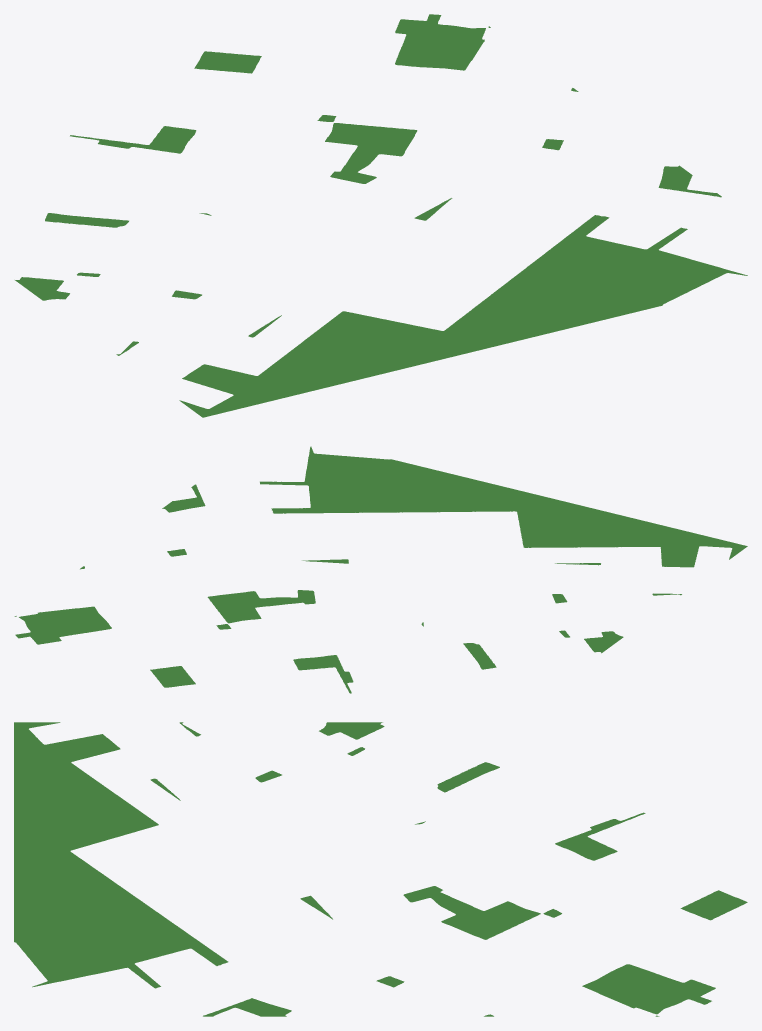
File: GRASS_AREA.fbx
3 views of the same model, one above another, from view 1: azimuth 30°, elevation 25°; view 2: azimuth 150°, elevation 25°; view 3: azimuth 270°, elevation 25° (orthographic). The views are drawn at different scales.
Parts seen in each view (by area): view 1: VEG_AREA_Quintais; view 2: VEG_AREA_Quintais; view 3: VEG_AREA_Quintais.
Boxes of the visible parts, <box> form: VEG_AREA_Quintais: <box>15,14,747,417</box>; VEG_AREA_Quintais: <box>14,446,747,693</box>; VEG_AREA_Quintais: <box>14,722,747,1016</box>.
Bounding box in the file's own units: 209 × 0 × 220.
